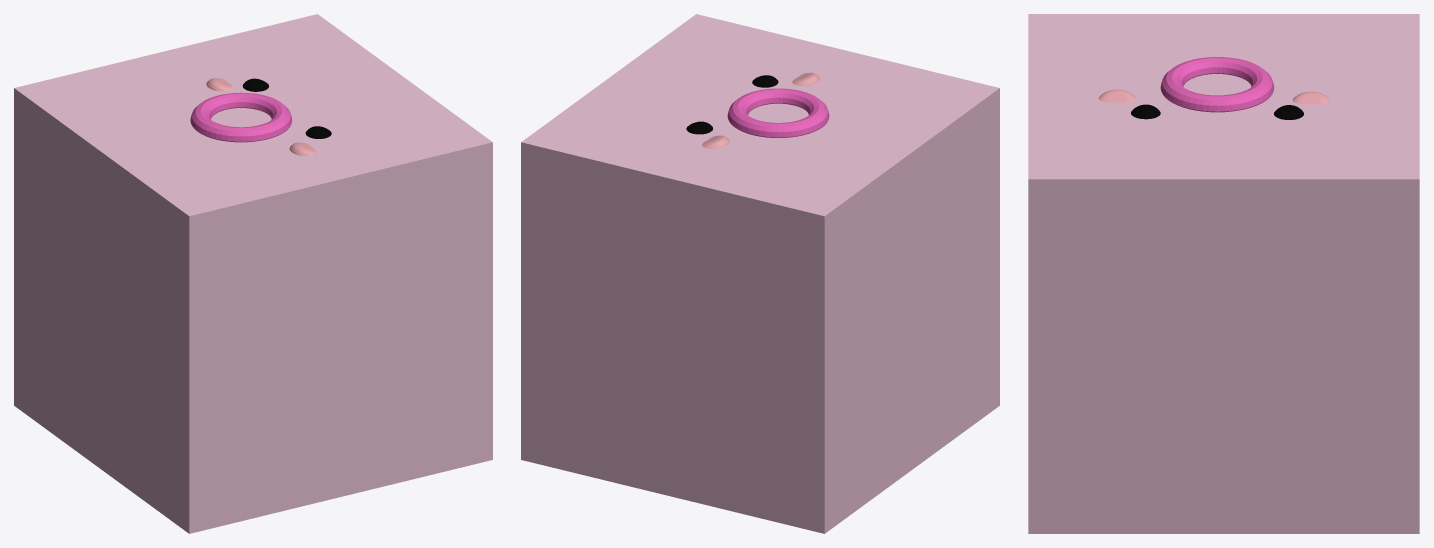
Rendered from cube_skyboi.glb.
The picture shows the model from 3 angles, left to right: view 1: azimuth 30°, elevation 25°; view 2: azimuth 150°, elevation 25°; view 3: azimuth 270°, elevation 25°; orthographic projection. The views are drawn at different scales.
Parts seen in each view (by area): view 1: body; view 2: body; view 3: body.
Part boxes in pixels (x1,y1,x2,y2): body: [14, 14, 492, 533]; body: [521, 14, 999, 533]; body: [1028, 14, 1419, 533].
Size of the model in its own units: 2 by 2.06 by 2.
